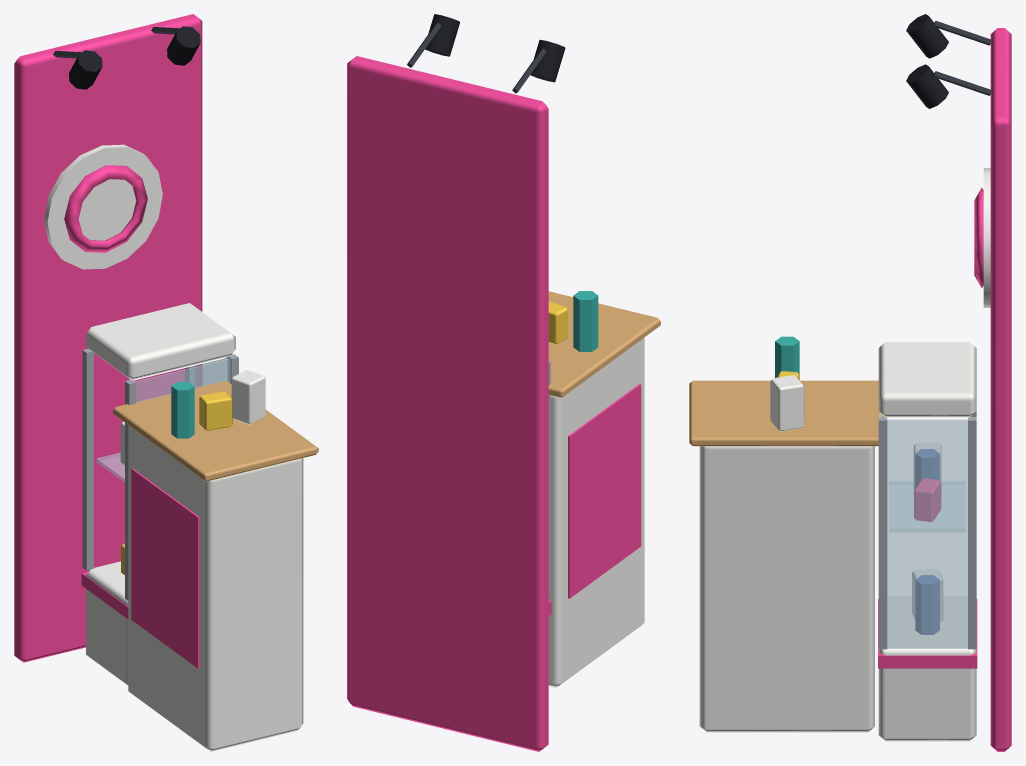
Rendered from station_special_ausstattung_2_3.glb.
3 views of the same model, side by side, from view 1: azimuth 30°, elevation 25°; view 2: azimuth 150°, elevation 25°; view 3: azimuth 270°, elevation 25° (orthographic). The views are drawn at different scales.
Parts seen in each view (by area): view 1: station_special_ausstattung_2_3; view 2: station_special_ausstattung_2_3; view 3: station_special_ausstattung_2_3.
Part boxes in pixels (left/top/right/bottom): station_special_ausstattung_2_3: left=14, top=14, right=318, bottom=751; station_special_ausstattung_2_3: left=347, top=14, right=660, bottom=751; station_special_ausstattung_2_3: left=689, top=14, right=1011, bottom=751.
Bounding box in the file's own units: 0.64 × 2.08 × 0.92.
